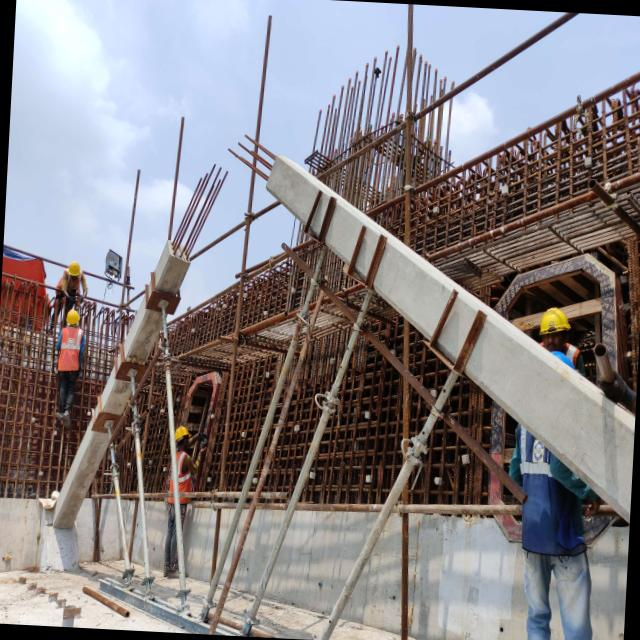cement: (409, 514, 527, 640), (265, 511, 377, 616), (0, 571, 188, 633), (342, 513, 401, 634), (589, 528, 630, 640), (234, 510, 282, 594), (252, 598, 328, 640), (0, 498, 42, 572), (185, 509, 215, 580), (146, 501, 167, 572), (331, 619, 400, 640), (220, 589, 254, 631), (186, 578, 209, 628), (152, 569, 180, 608), (102, 500, 119, 559), (83, 560, 124, 581), (132, 506, 143, 565), (134, 564, 145, 593), (126, 502, 134, 528)
